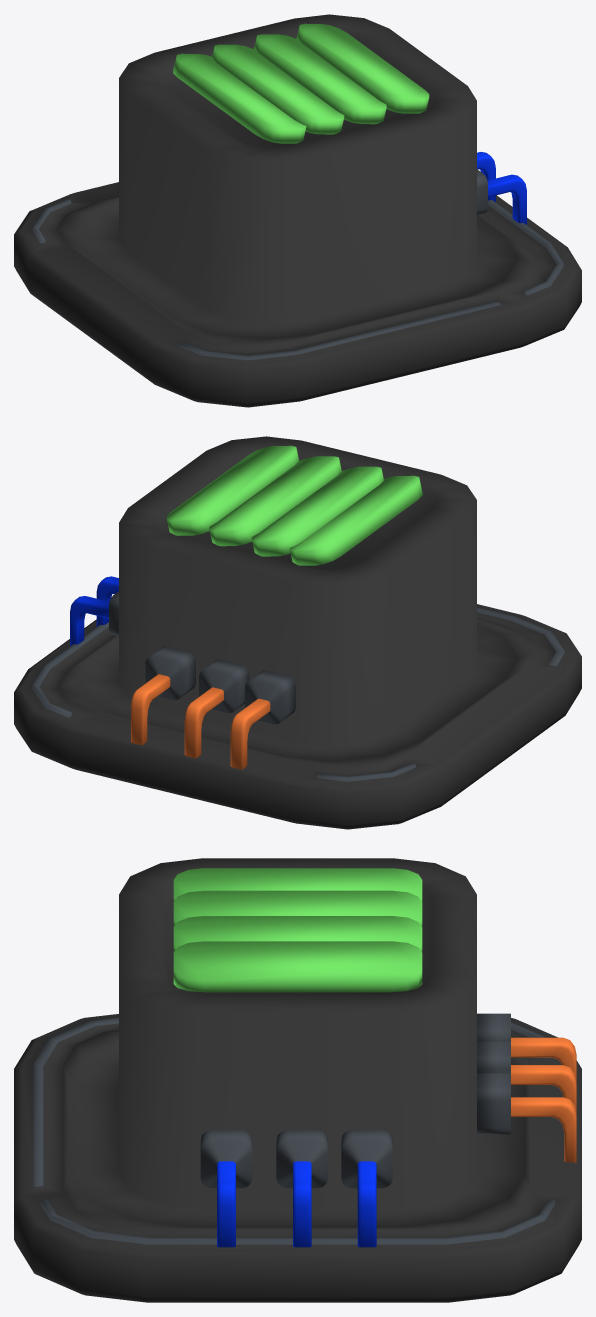
The model's file is gpr.glb.
3 views of the same model, one above another, from view 1: azimuth 30°, elevation 25°; view 2: azimuth 150°, elevation 25°; view 3: azimuth 270°, elevation 25° (orthographic). The views are drawn at different scales.
Parts seen in each view (by area): view 1: Cube, Cube.004, Cube.003; view 2: Cube, Cube.004, Cube.003; view 3: Cube, Cube.004, Cube.003.
Part boxes in pixels (<box>): Cube: <box>14,14,581,407</box>; Cube.004: <box>173,23,429,143</box>; Cube.003: <box>477,152,526,224</box>; Cube: <box>14,436,581,829</box>; Cube.004: <box>166,445,422,565</box>; Cube.003: <box>70,576,295,769</box>; Cube: <box>14,858,581,1302</box>; Cube.004: <box>173,868,422,992</box>; Cube.003: <box>200,1013,576,1247</box>.
Size of the model in its own units: 5.45 by 2.79 by 5.3.
